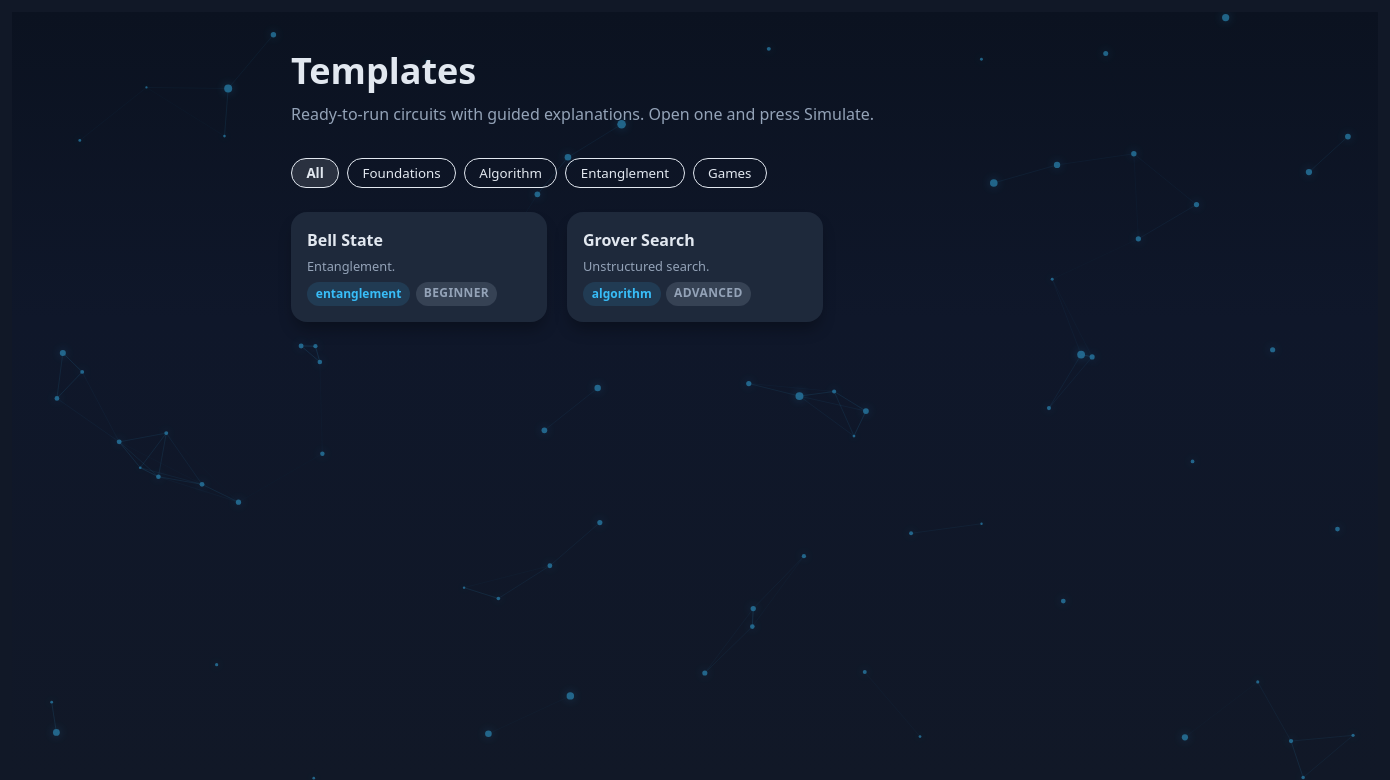
TemplateGalleryPage › filters by category when a chip is clicked
Expected: the text "Bell State" is shown, [307,229,383,251]
Click the button "entanglement". click: (625, 173)
box: [565,158,684,188]
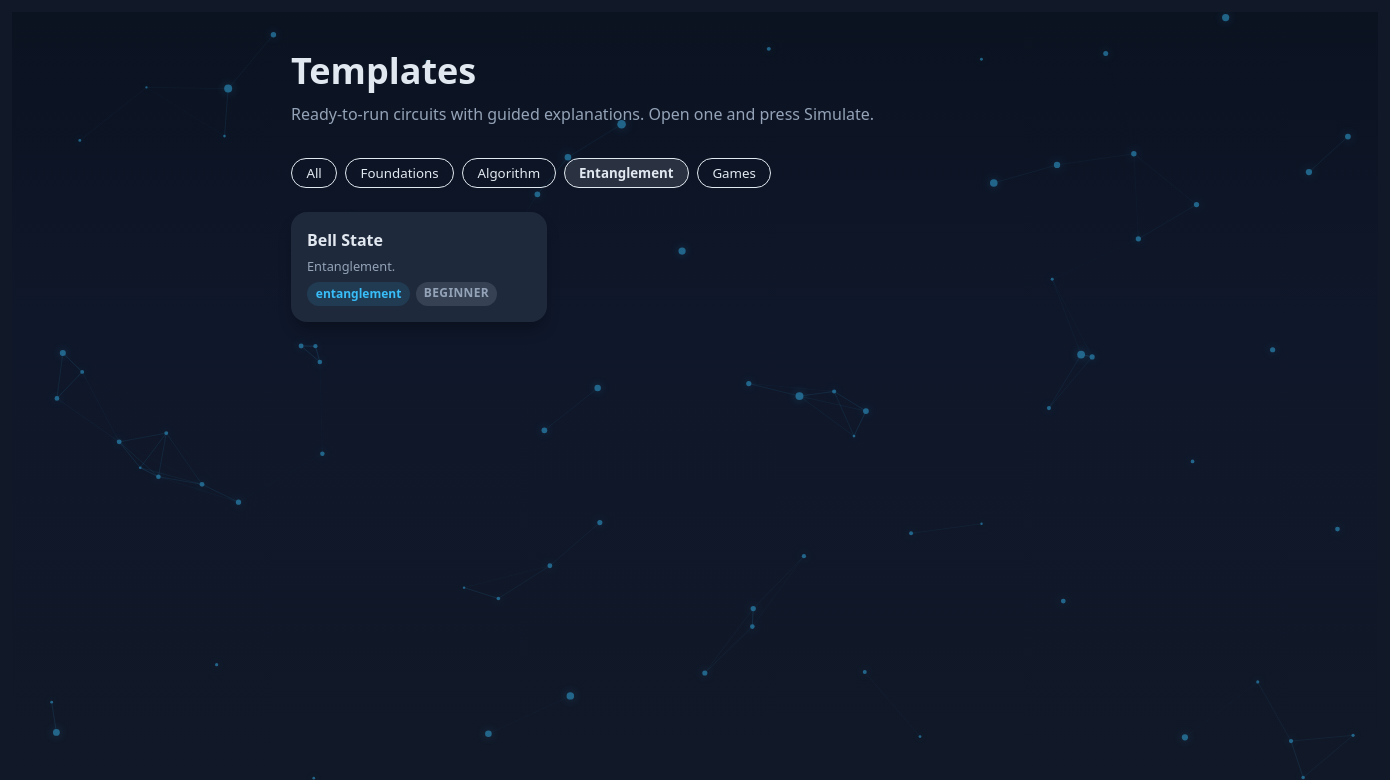
Expected: the text "Bell State" is shown, [307,229,383,251]
Now the link "Grover Search" is gone
